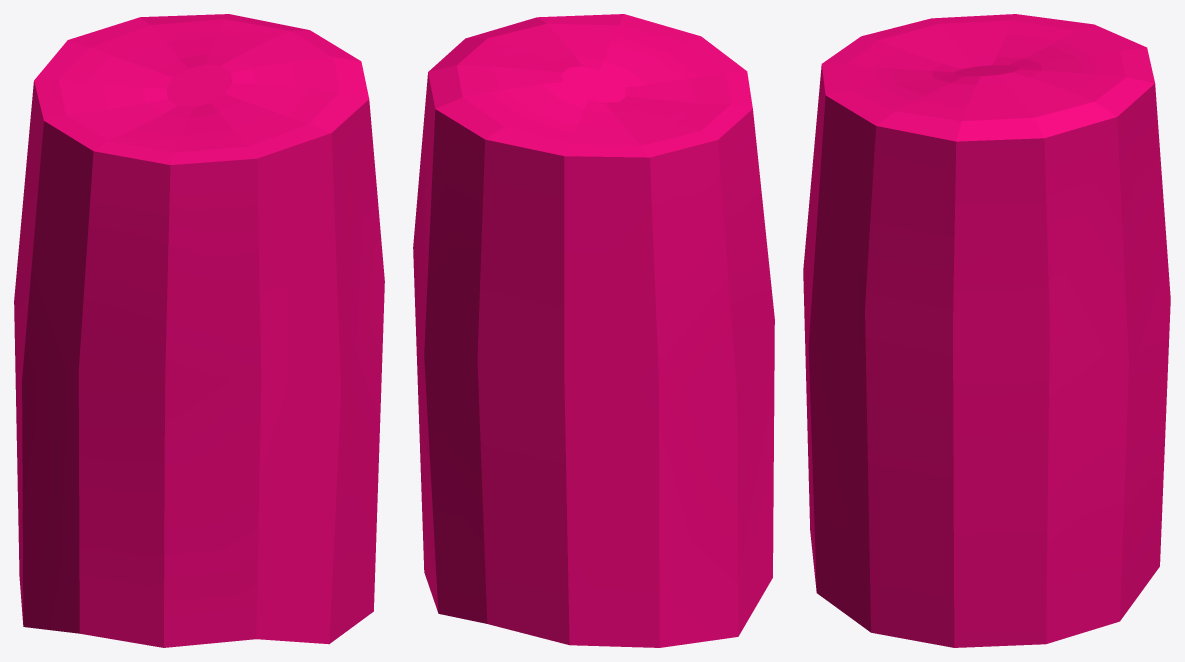
The model's file is SM_SS_Stump_2.fbx.
3 renders of one model, left to right at view 1: azimuth 30°, elevation 25°; view 2: azimuth 150°, elevation 25°; view 3: azimuth 270°, elevation 25°, orthographic.
Parts seen in each view (by area): view 1: SM_SS_Stump_2; view 2: SM_SS_Stump_2; view 3: SM_SS_Stump_2.
Boxes of the visible parts, x1,y1,x2,y2 form: SM_SS_Stump_2: (14,14,384,647); SM_SS_Stump_2: (413,14,774,647); SM_SS_Stump_2: (803,14,1170,647).
Size of the model in its own units: 15.81 by 15.82 by 24.59.
